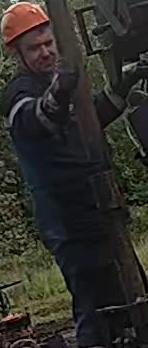gloves: (40, 57, 81, 115), (106, 60, 148, 100)
helmet: (0, 1, 50, 46)
vest: (0, 75, 109, 243)
